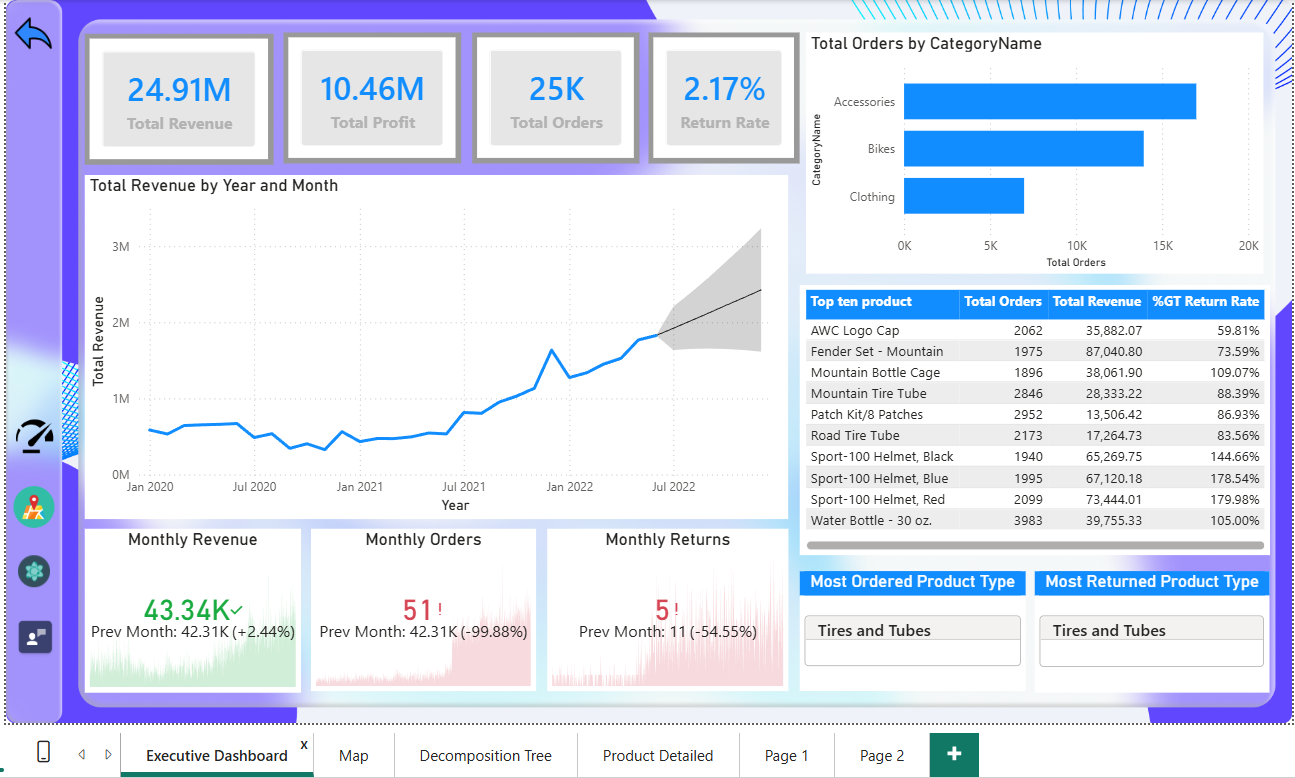

What the dashboard file says about the page in this screenshot:
{"tool":"powerbi","page":{"name":"Exec Dashboard","canvas":[1280,720],"ordinal":0},"visuals":[{"type":"card","fields":{"Values":["Measure Table.Total Revenue"]},"box":[288.1,17.8,256.2,150],"z":0,"group":"g2"},{"type":"group","id":"g1","title":"KPI Backgrounds","box":[303.1,47.8,947.5,100],"z":0},{"type":"shape","box":[303.1,47.8,225,100],"z":0,"group":"g1"},{"type":"actionButton","box":[2.5,516.7,45.6,37.8],"z":0,"group":"g3"},{"type":"shape","title":"Left Nav Background","box":[0,0,45,720],"z":1000},{"type":"card","fields":{"Values":["Measure Table.Total Profit"]},"box":[528.9,17.8,256.2,150],"z":1000,"group":"g2"},{"type":"shape","box":[543.9,47.8,225,100],"z":1000,"group":"g1"},{"type":"actionButton","box":[3.3,563.4,45.6,37.8],"z":1000,"group":"g3"},{"type":"group","id":"g2","title":"KPI Values","box":[288.1,17.8,978.8,150],"z":2000},{"type":"card","fields":{"Values":["Measure Table.Total Orders"]},"box":[769.8,17.8,256.2,150],"z":2000,"group":"g2"},{"type":"shape","box":[784.8,47.8,225,100],"z":2000,"group":"g1"},{"type":"actionButton","box":[3.3,611.1,45.6,37.8],"z":2000,"group":"g3"},{"type":"card","fields":{"Values":["Measure Table.Return Rate"]},"box":[1010.6,17.8,256.2,150],"z":3000,"group":"g2"},{"type":"shape","box":[1025.6,47.8,225,100],"z":3000,"group":"g1"},{"type":"lineChart","title":"Revenue Trending","fields":{"Y":["Measure Table.Total Revenue"],"Category":["Calendar Lookup.Start of Month"]},"box":[78.9,177.7,633.8,342.5],"z":3000},{"type":"actionButton","box":[3.3,657.8,45.6,37.8],"z":3000,"group":"g3"},{"type":"kpi","title":"Monthly Revenue","fields":{"Indicator":["Measure Table.Total Revenue"],"TrendLine":["Calendar Lookup.Start of Month"],"Goal":["Measure Table.Previous Month Revenue"]},"box":[126.2,555,175,133.8],"z":4000},{"type":"kpi","title":"Monthly Orders","fields":{"TrendLine":["Calendar Lookup.Start of Month"],"Indicator":["Measure Table.Total Orders"],"Goal":["Measure Table.Previous Month Orders"]},"box":[321.2,555,175,133.8],"z":5000},{"type":"kpi","title":"Monthly Returns","fields":{"TrendLine":["Calendar Lookup.Start of Month"],"Indicator":["Measure Table.Total Returns"],"Goal":["Measure Table.Previous Month Returns"]},"box":[516.2,555,175,133.8],"z":6000},{"type":"clusteredBarChart","title":"Orders by Category","fields":{"Category":["Product Categories Lookup.CategoryName"],"Y":["Measure Table.Total Orders"]},"box":[738.9,177.7,511.2,171.2],"z":7000},{"type":"pivotTable","fields":{"Rows":["Product Lookup.ProductName"],"Values":["Measure Table.Total Orders","Measure Table.Total Revenue","Measure Table.Return Rate"]},"box":[753.7,369.2,511.1,228.4],"z":8000},{"type":"card","fields":{"Values":["Min(Product Subcategories Lookup.SubcategoryName)"]},"box":[753.7,634.2,241.4,48.5],"z":9000},{"type":"textbox","box":[751.3,604.6,198.8,35.5],"z":10000},{"type":"card","fields":{"Values":["Min(Product Subcategories Lookup.SubcategoryName)"]},"box":[1004.1,634.2,241.4,48.5],"z":11000},{"type":"textbox","box":[1002.2,605.2,198.8,35.5],"z":12000},{"type":"actionButton","box":[3.3,5.6,35.6,35.6],"z":13000},{"type":"group","id":"g3","title":"Navigation Buttons","box":[2.5,516.7,46.4,178.9],"z":14000},{"type":"actionButton","box":[3.4,53.1,38.4,39.6],"z":15000},{"type":"image","box":[16.2,6.1,271.4,149.9],"z":17000}]}

Visuals, with their boxes on the page's 1280x720 design canvas (x1, y1, x2, y2). These are canvas units, not pixel positions in the 1295x778 screenshot, which may show the page scaled, cropped or inside an application window:
card - Measure Table.Total Revenue: bbox=(288, 18, 544, 168)
"KPI Backgrounds" group: bbox=(303, 48, 1251, 148)
shape: bbox=(303, 48, 528, 148)
actionButton: bbox=(2, 517, 48, 554)
"Left Nav Background" shape: bbox=(0, 0, 45, 720)
card - Measure Table.Total Profit: bbox=(529, 18, 785, 168)
shape: bbox=(544, 48, 769, 148)
actionButton: bbox=(3, 563, 49, 601)
"KPI Values" group: bbox=(288, 18, 1267, 168)
card - Measure Table.Total Orders: bbox=(770, 18, 1026, 168)
shape: bbox=(785, 48, 1010, 148)
actionButton: bbox=(3, 611, 49, 649)
card - Measure Table.Return Rate: bbox=(1011, 18, 1267, 168)
shape: bbox=(1026, 48, 1251, 148)
"Revenue Trending" lineChart: bbox=(79, 178, 713, 520)
actionButton: bbox=(3, 658, 49, 696)
"Monthly Revenue" kpi: bbox=(126, 555, 301, 689)
"Monthly Orders" kpi: bbox=(321, 555, 496, 689)
"Monthly Returns" kpi: bbox=(516, 555, 691, 689)
"Orders by Category" clusteredBarChart: bbox=(739, 178, 1250, 349)
pivotTable - Product Lookup.ProductName x Measure Table.Total Orders: bbox=(754, 369, 1265, 598)
card - Min(Product Subcategories Lookup.SubcategoryName): bbox=(754, 634, 995, 683)
textbox: bbox=(751, 605, 950, 640)
card - Min(Product Subcategories Lookup.SubcategoryName): bbox=(1004, 634, 1246, 683)
textbox: bbox=(1002, 605, 1201, 641)
actionButton: bbox=(3, 6, 39, 41)
"Navigation Buttons" group: bbox=(2, 517, 49, 696)
actionButton: bbox=(3, 53, 42, 93)
image: bbox=(16, 6, 288, 156)
